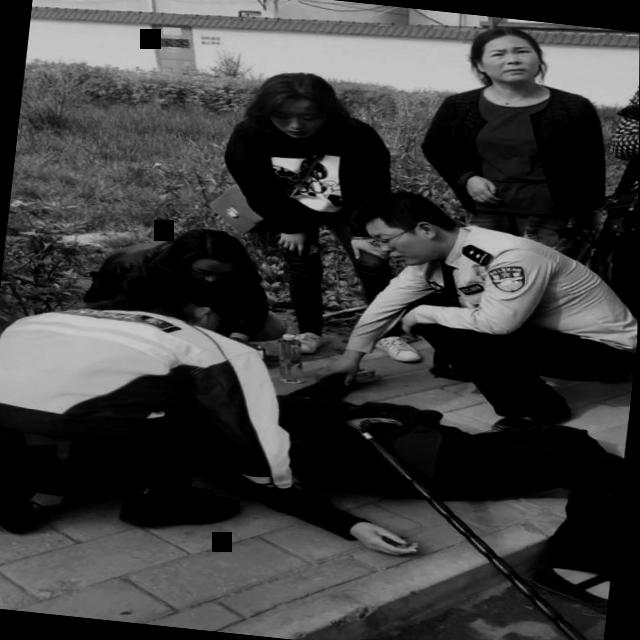Fall-Detected: (172, 343, 632, 603)
